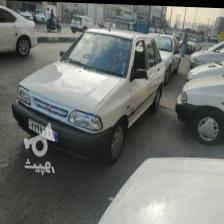plate: (28, 116, 57, 142)
